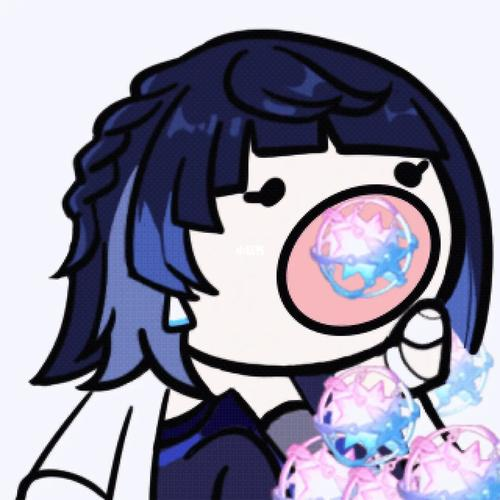夜兰: (17, 34, 487, 499)
